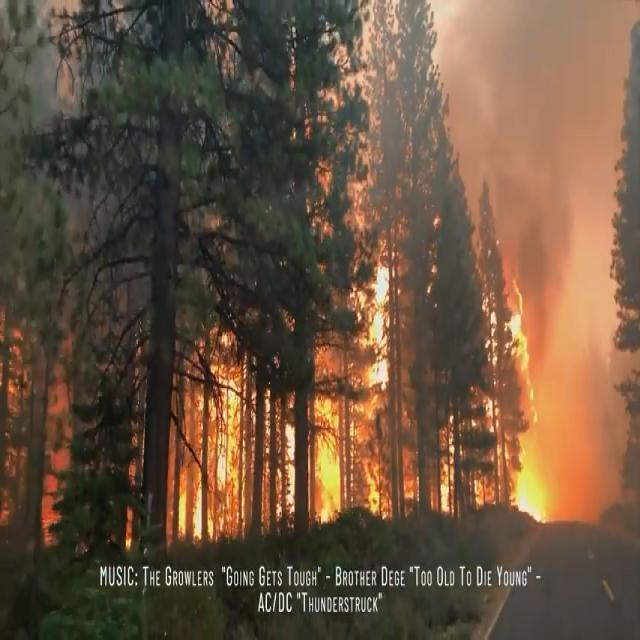Fire: (165, 255, 547, 532)
